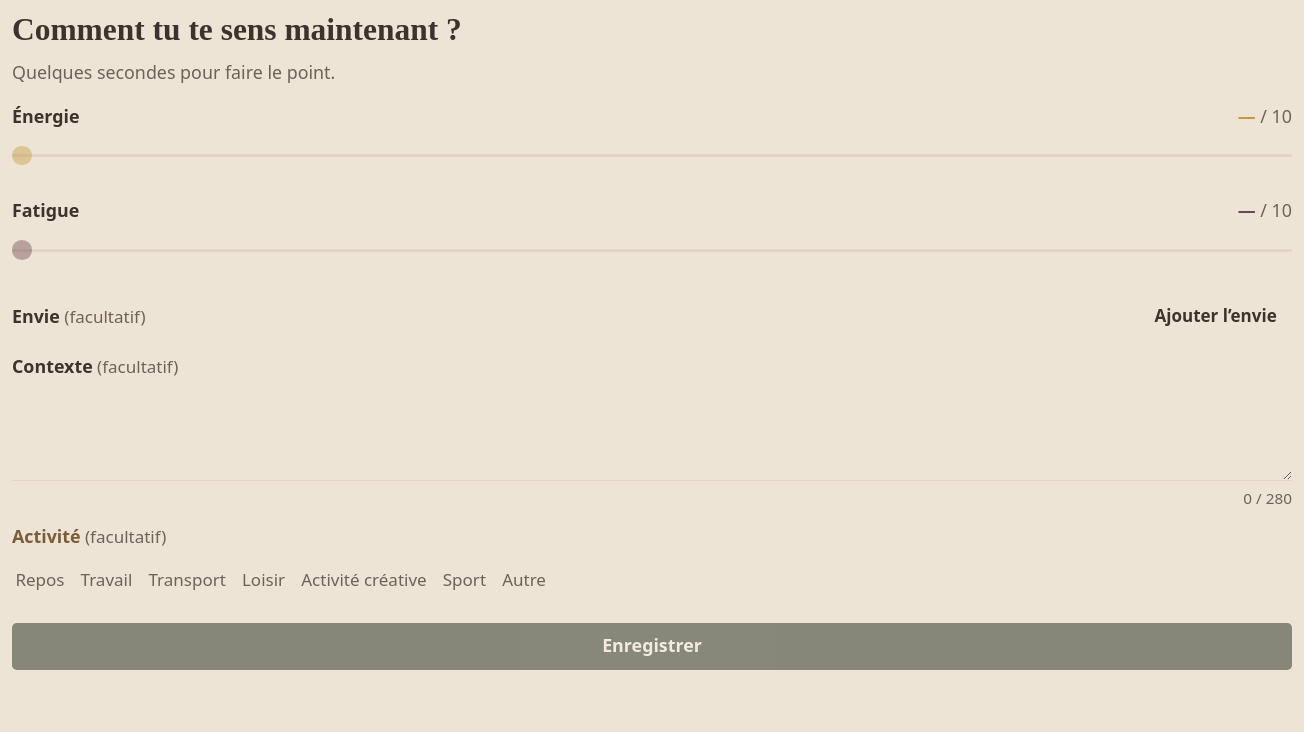
Test: LogPage › empêche un double envoi pendant la requête
Press the mouse on the slider labelled "Énergie": (652, 156) [12, 132, 1292, 179]
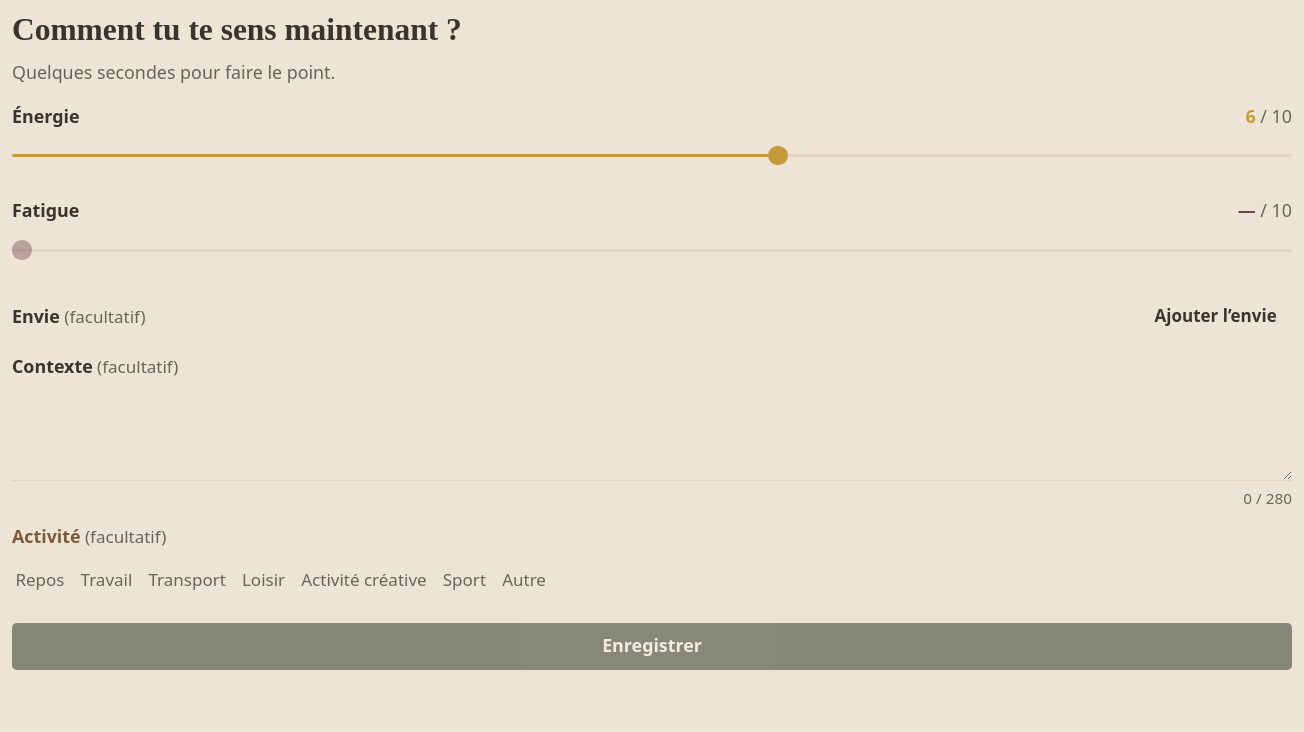
Press the mouse on the slider labelled "Fatigue": (652, 250) [12, 227, 1292, 274]
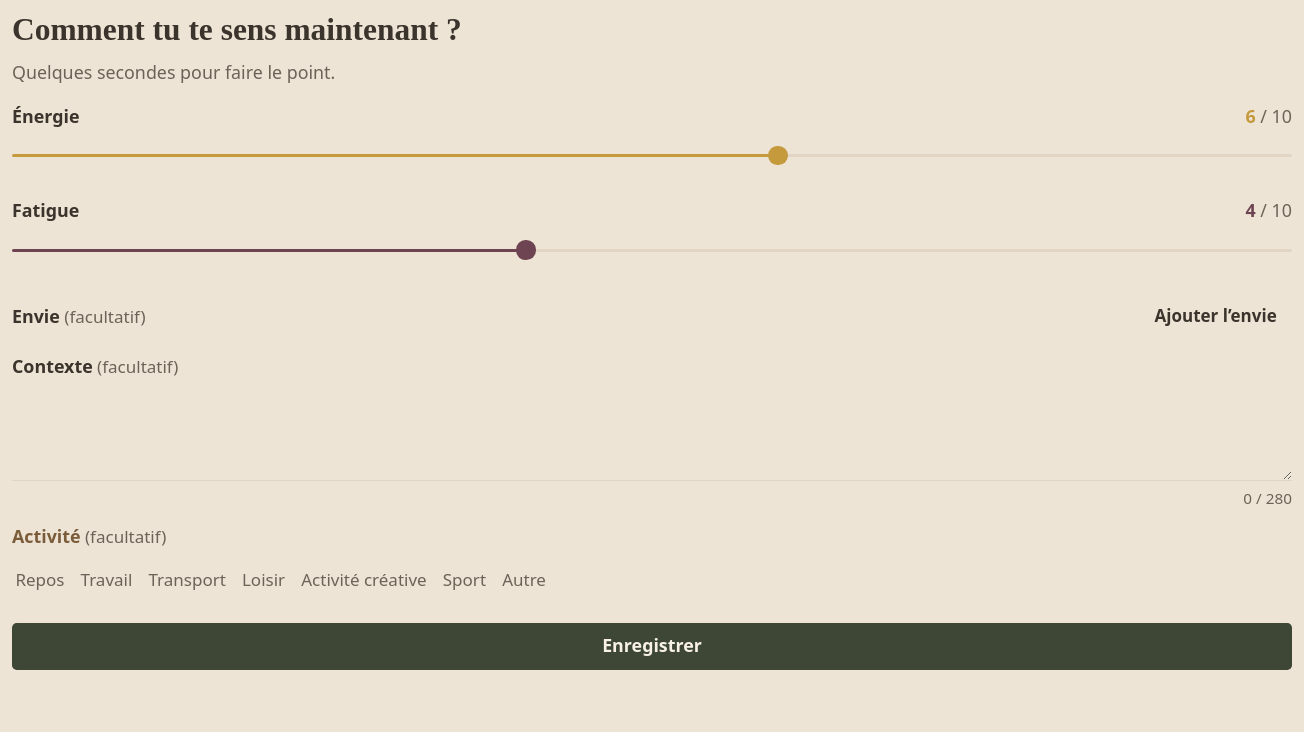
Click the button "Enregistrer": (652, 646) [12, 623, 1292, 670]
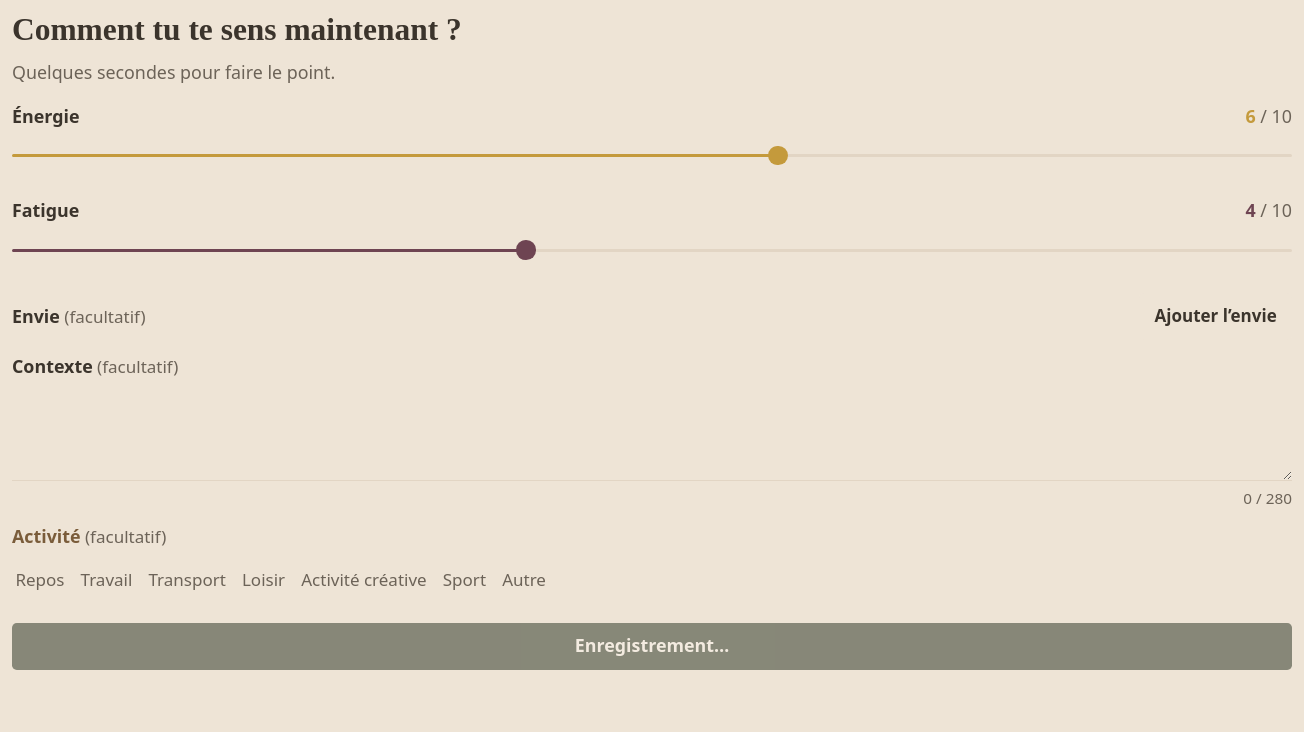
Click the button named "Enregistrer": (652, 646) [12, 623, 1292, 670]
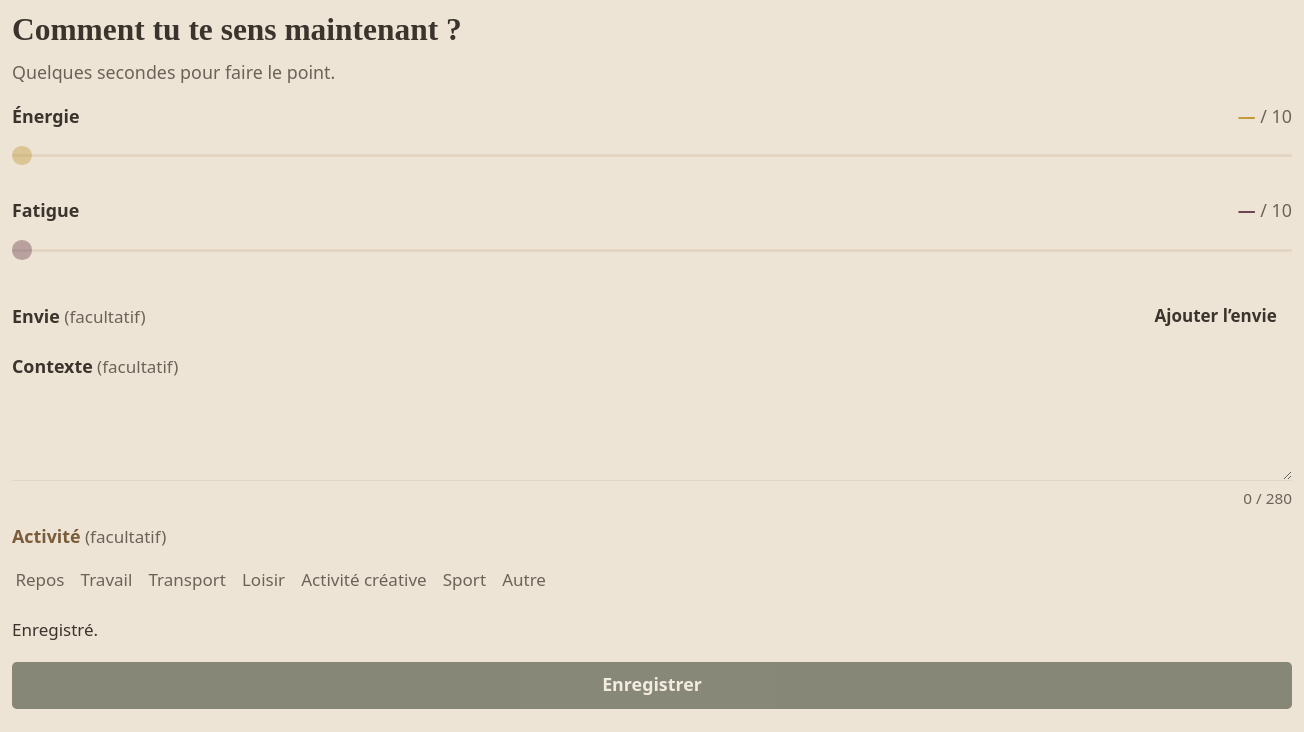
Result: the button named "Enregistrement…" is disabled at [12, 662, 1292, 709]
Result: the message reads "Enregistré." at [12, 618, 98, 641]
